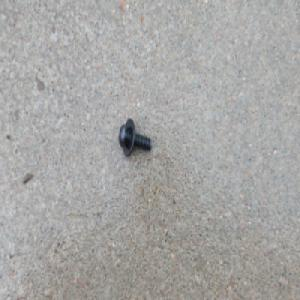BoltWasher: (118, 115, 151, 155)
